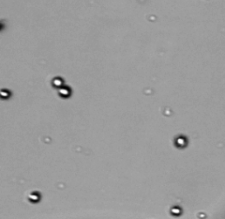Living Cell: (173, 134, 188, 148), (57, 86, 72, 99), (28, 190, 41, 204), (51, 76, 64, 88), (1, 87, 11, 100), (170, 205, 181, 215)
